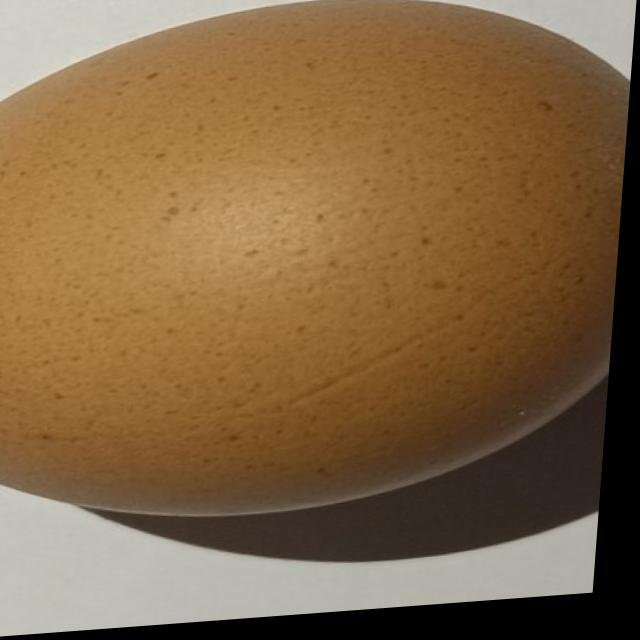unfresh: (0, 0, 639, 530)
